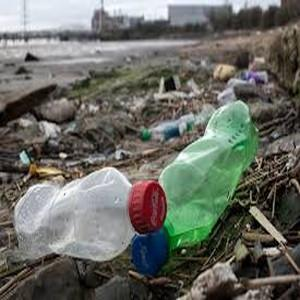Plastic: (12, 164, 167, 268), (139, 113, 198, 142)
